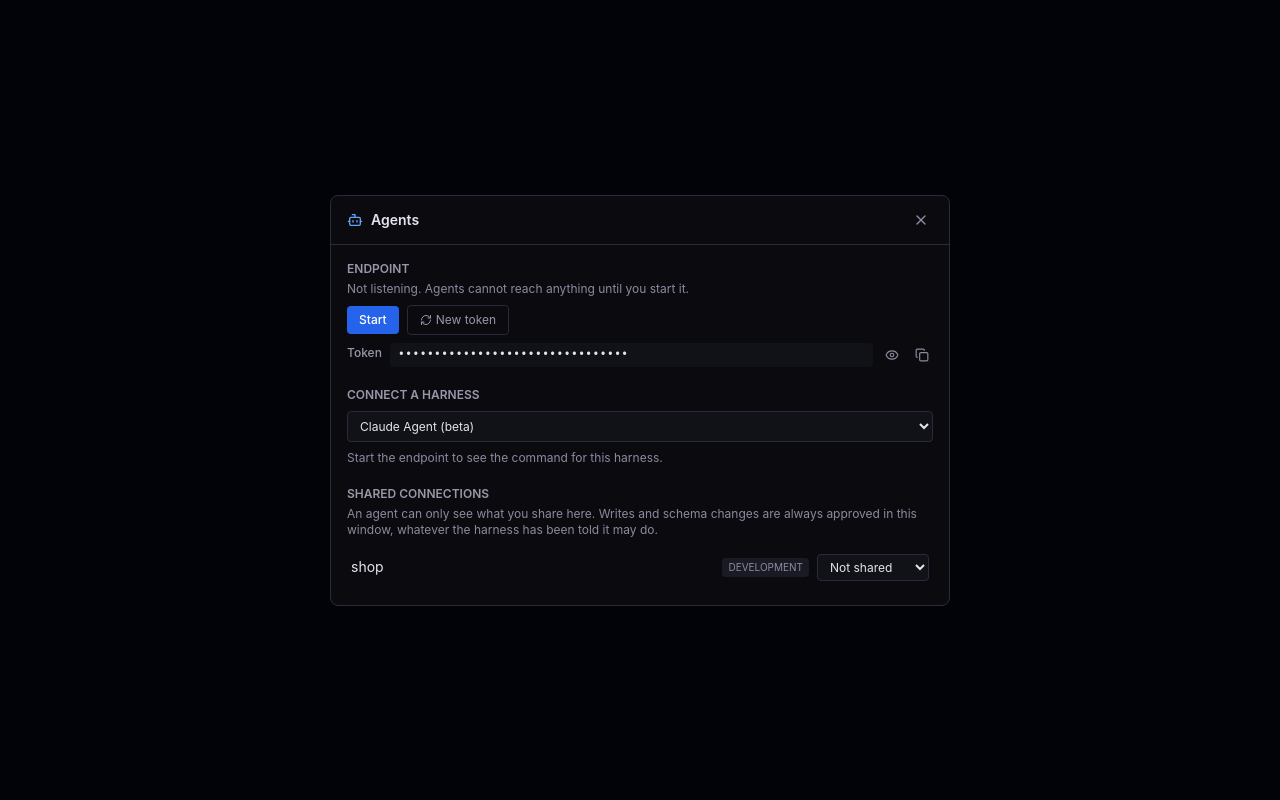
Scenario: AgentSettingsDialog › hides the token until it is asked for
Expected: the text "Not listening" is shown, [347,280,689,296]
Expected: the text "abcdef0123456789" is not shown
Click the button named "Show token" at (892, 354), box [881,344,903,366]
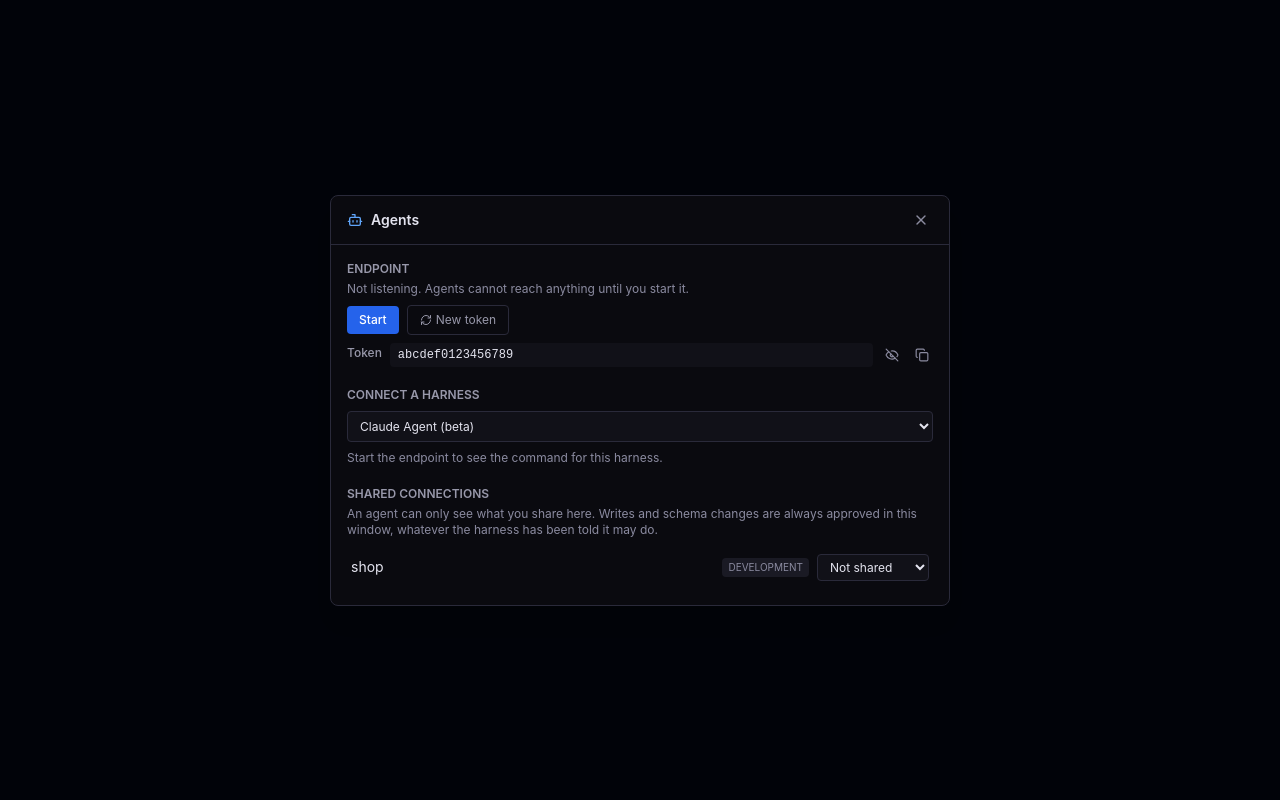
Expected: the text "abcdef0123456789" is shown, [390,342,873,366]
